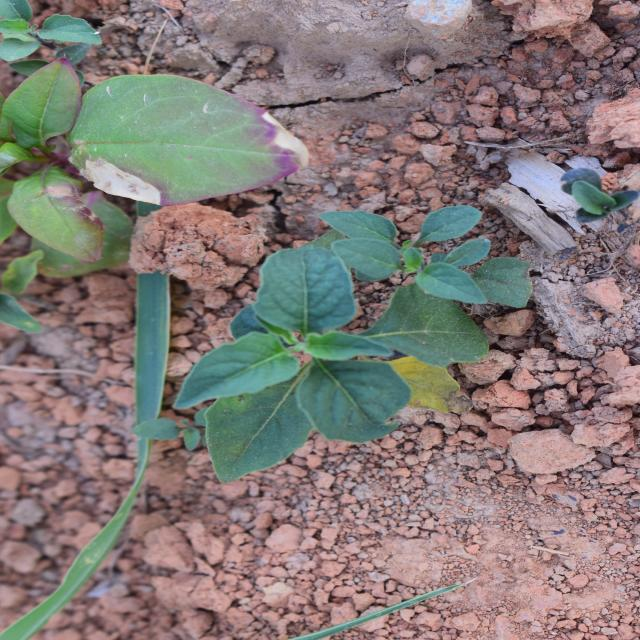Black_nightshade: (180, 189, 431, 505)
